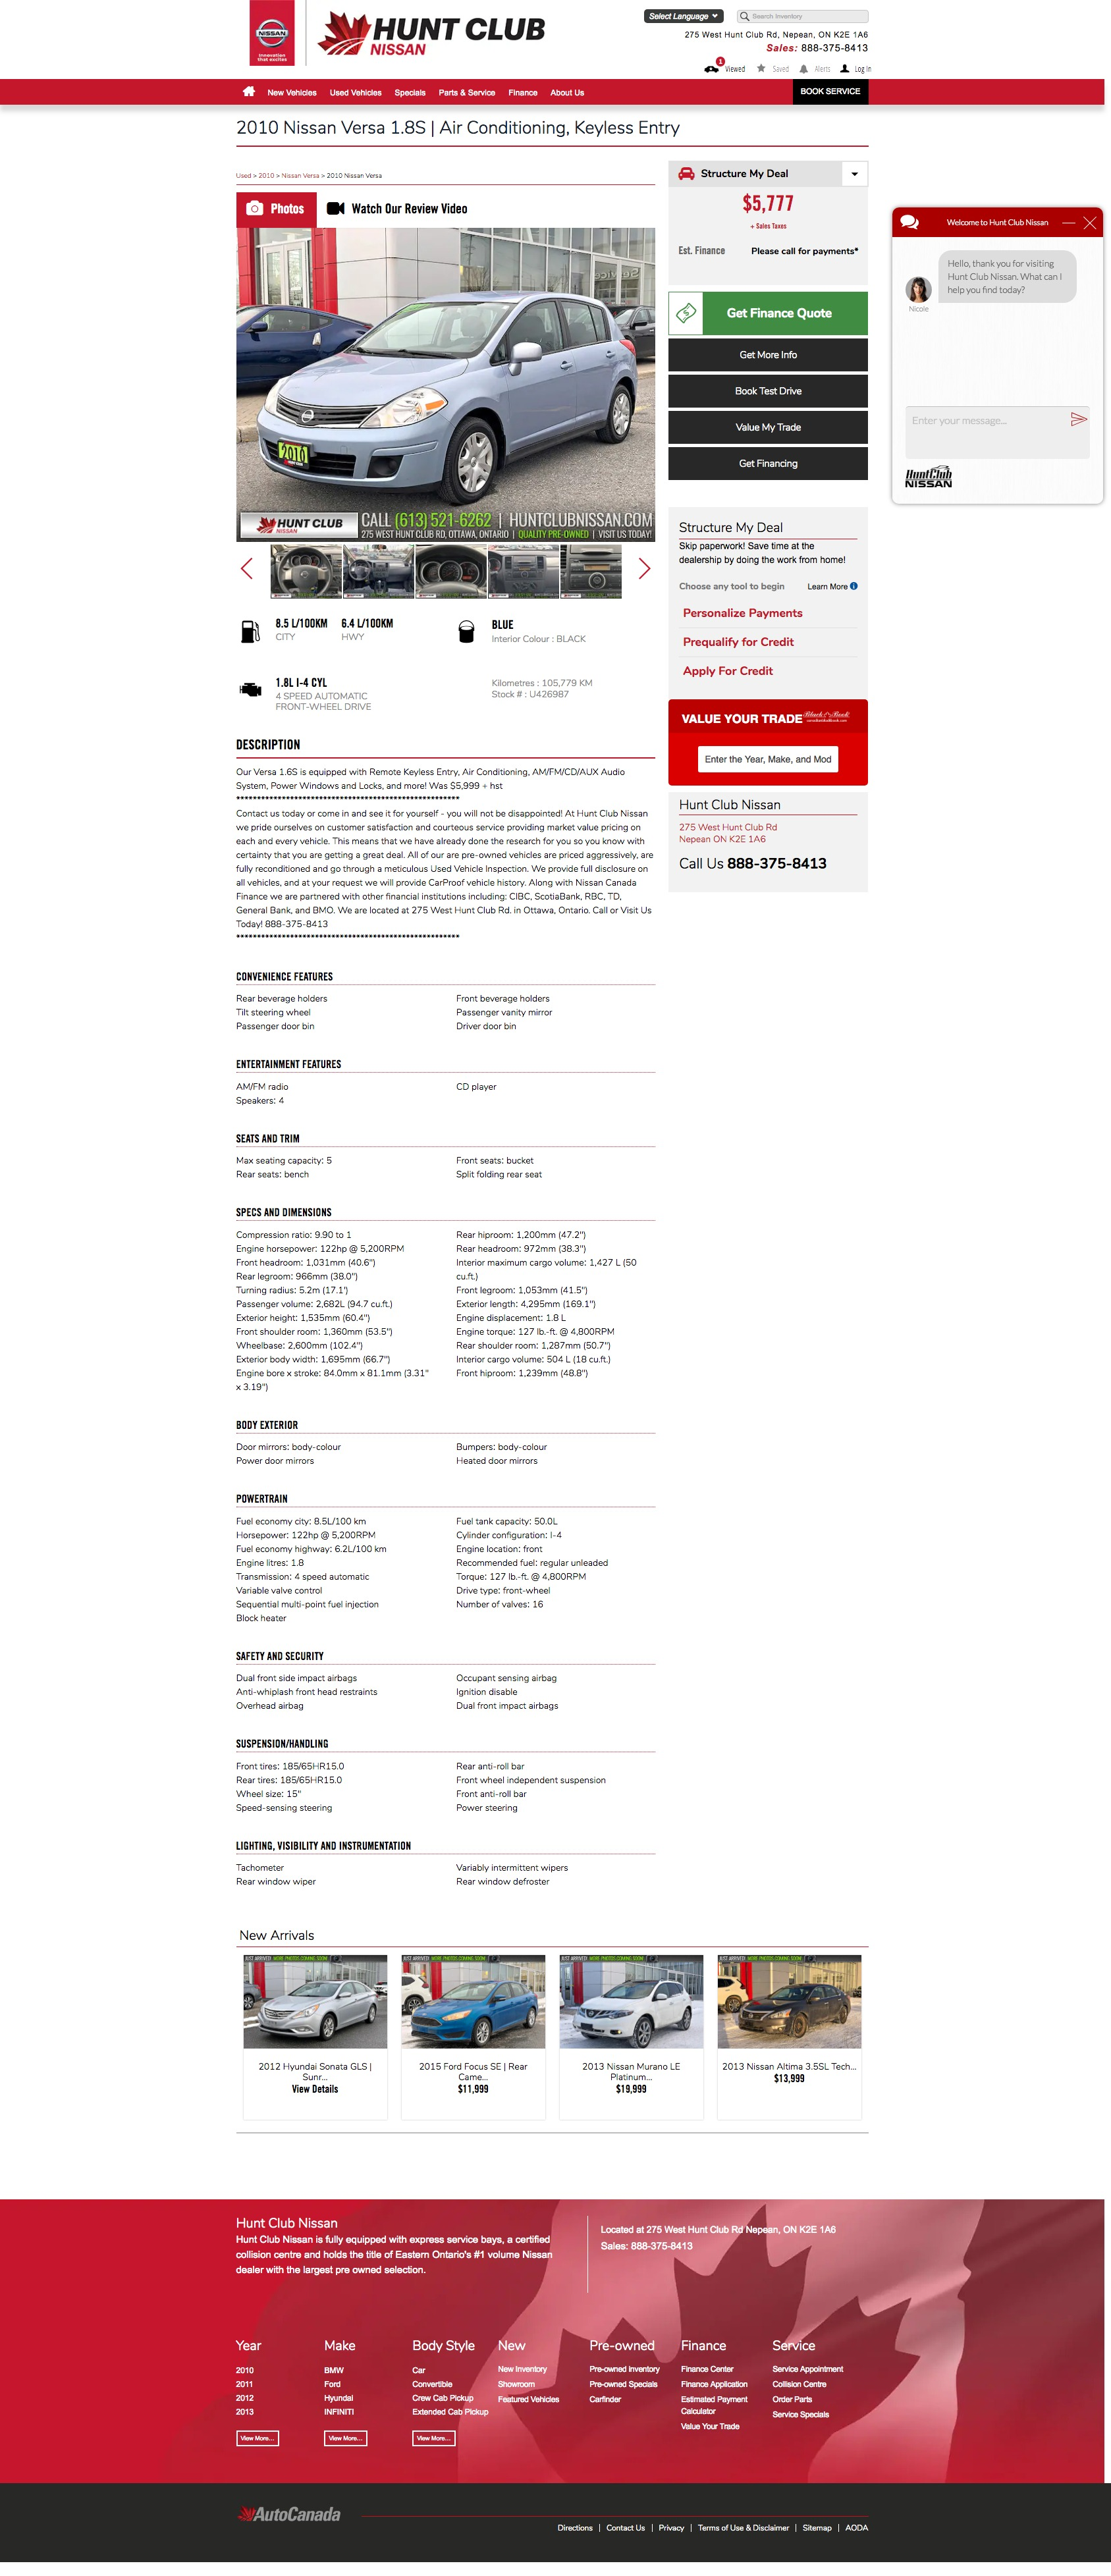car: (639, 557, 651, 580)
